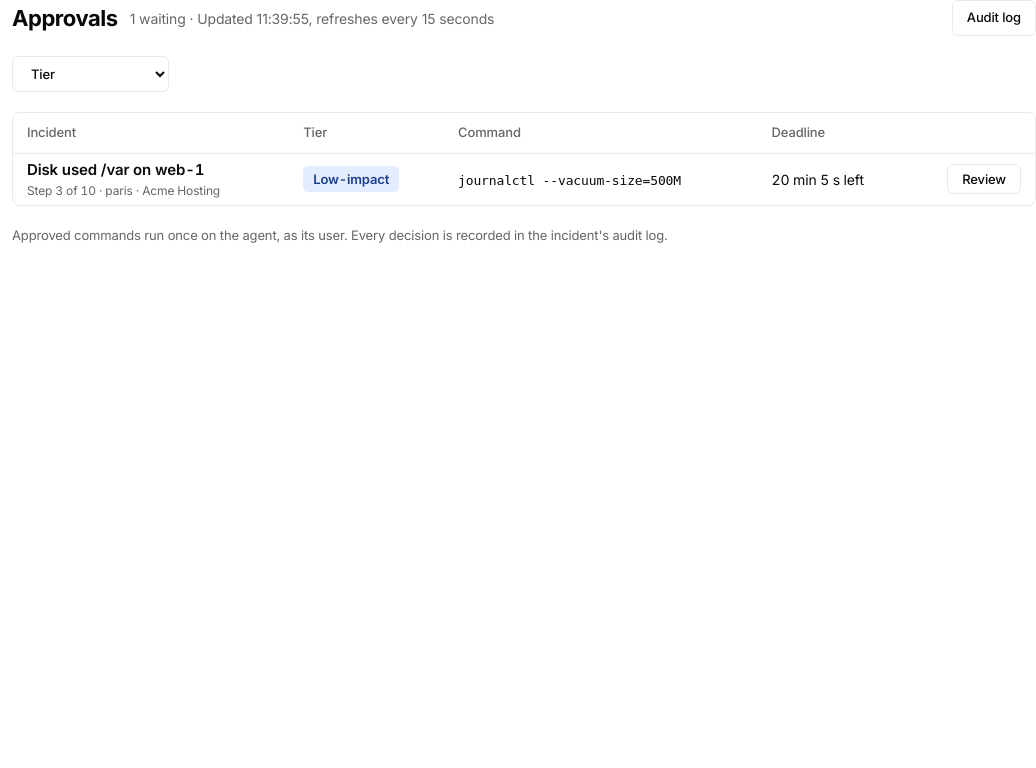
Test case: ApprovalQueue › rejects with a reason only
Click the button with aria-label "Review the command for web-1" at (984, 179), box [947,164,1021,194]
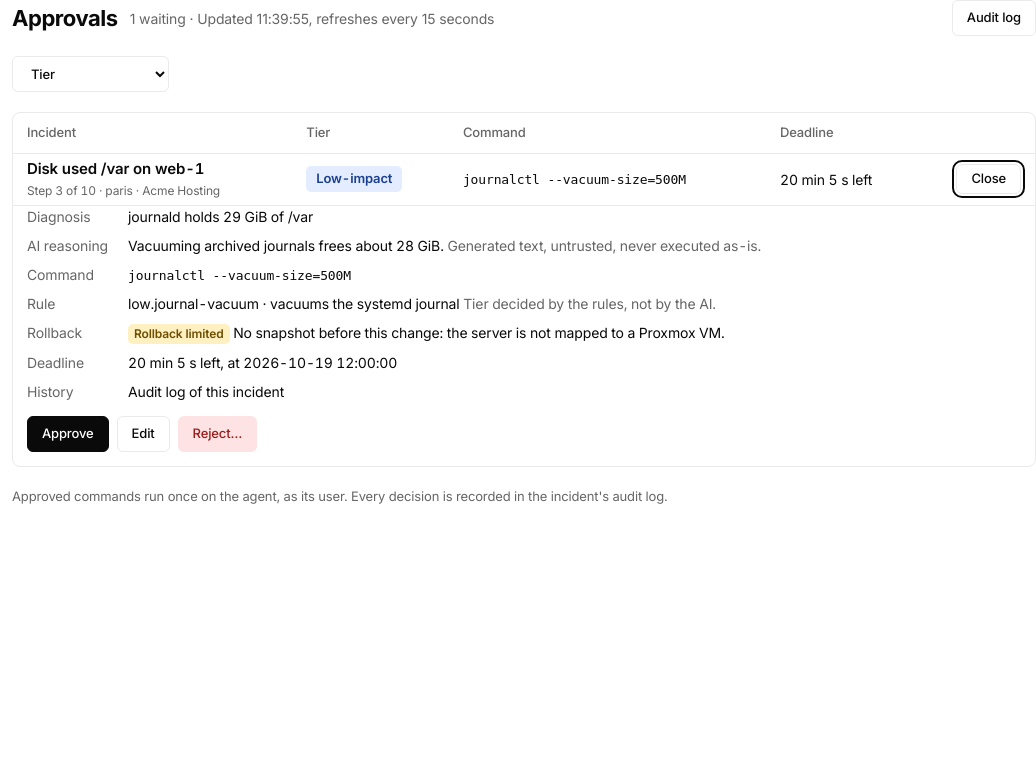
Click the button "Reject…" at (217, 434), box [178,416,257,452]
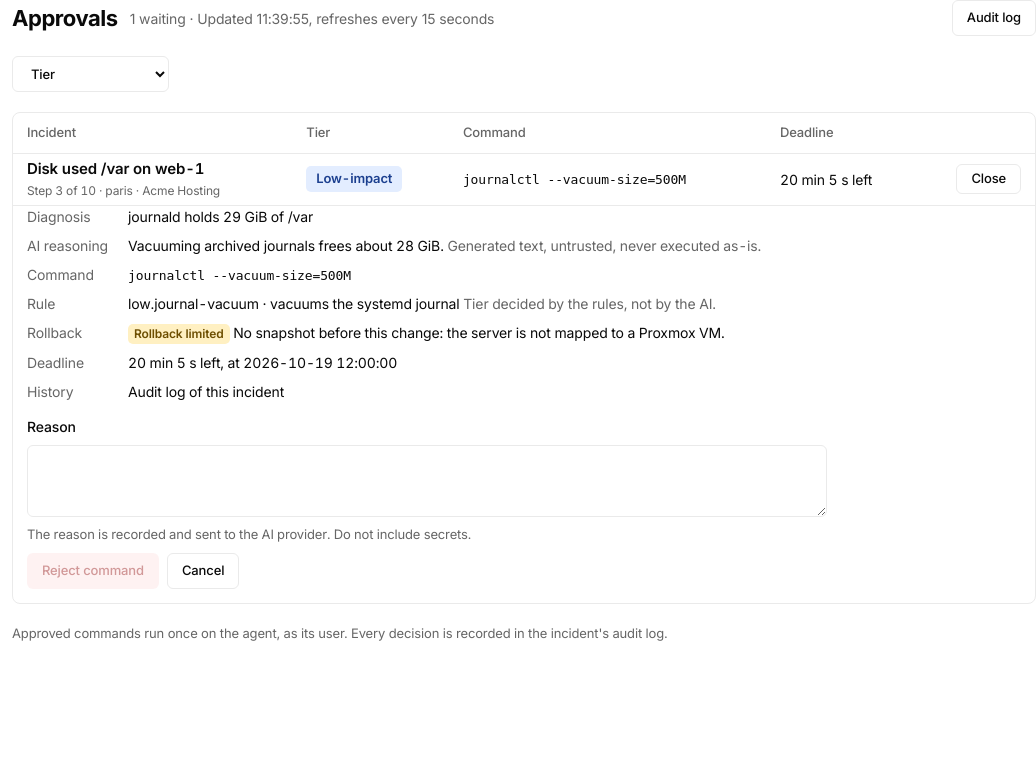
Now the text "sent to the AI provider. Do not include secrets" is shown, box [27,526,471,542]
Now the button "Reject command" is disabled, box [27,552,159,588]
Type "  keep the logs for the audit  " into the text box labelled "Reason" at (427, 481), box [27,445,827,517]
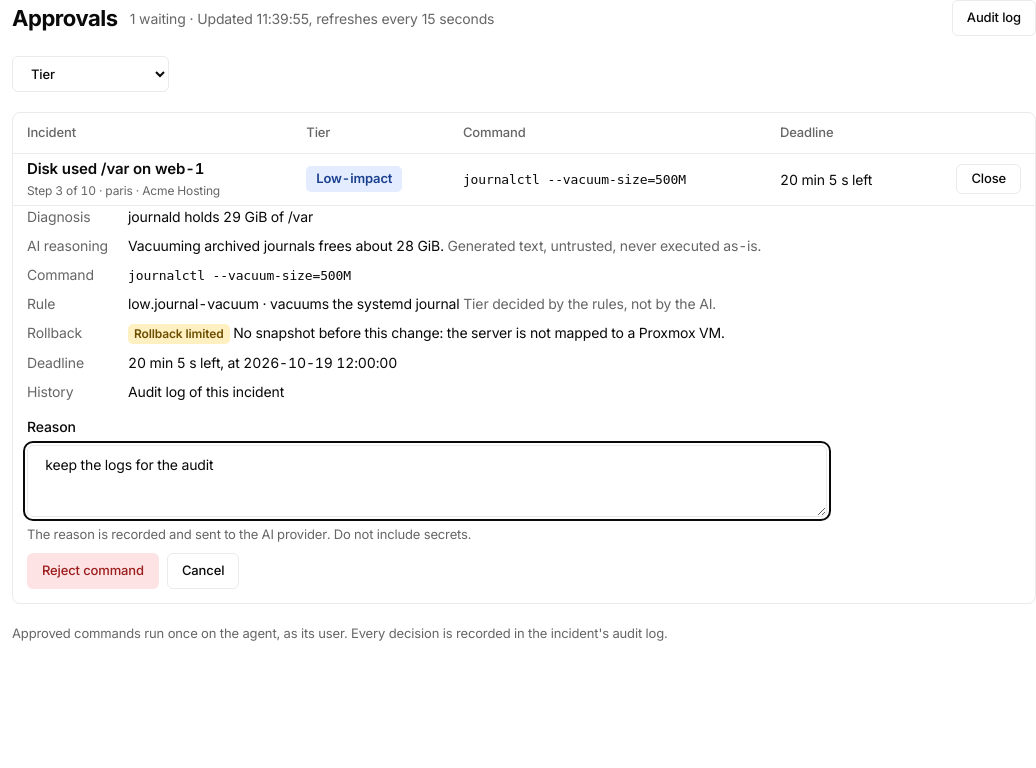
Click the button "Reject command" at (93, 570), box [27,552,159,588]
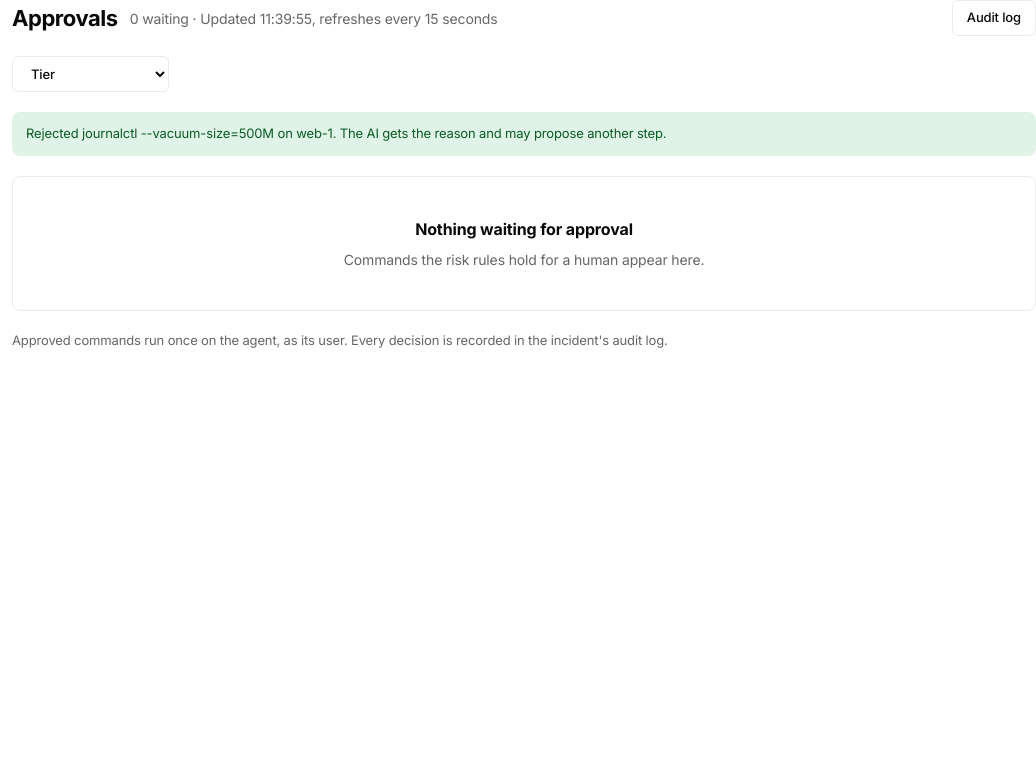
Now the text "Rejected journalctl --vacuum-size=500M on web-1. The AI gets the reason" is shown, box [26,125,666,141]
